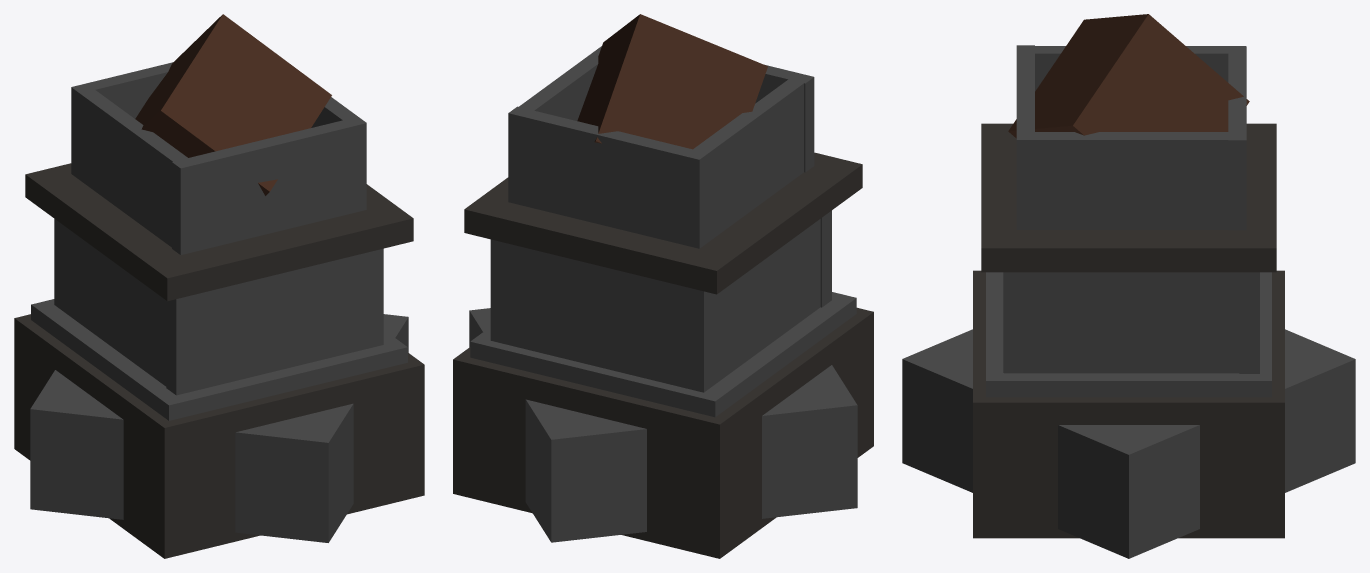
The model's file is 碉堡塔_2级.fbx.
The picture shows the model from 3 angles, left to right: view 1: azimuth 30°, elevation 25°; view 2: azimuth 150°, elevation 25°; view 3: azimuth 270°, elevation 25°; orthographic projection. The views are drawn at different scales.
Parts seen in each view (by area): view 1: 立方体, 立方体.027, 立方体.011, 立方体.005, 立方体.001, 立方体.002, 立方体.017, 立方体.004, 立方体.009, 立方体.025, 立方体.016; view 2: 立方体, 立方体.027, 立方体.008, 立方体.005, 立方体.025, 立方体.002, 立方体.017, 立方体.009, 立方体.004, 立方体.016, 立方体.001, 立方体.011; view 3: 立方体.027, 立方体, 立方体.010, 立方体.016, 立方体.005, 立方体.002, 立方体.004, 立方体.025, 立方体.008, 立方体.001, 立方体.017.
Boxes of the visible parts, bbox=[...] form: 立方体: bbox=[14, 314, 424, 558]; 立方体.027: bbox=[30, 314, 408, 542]; 立方体.011: bbox=[166, 248, 383, 395]; 立方体.005: bbox=[25, 163, 413, 301]; 立方体.001: bbox=[172, 116, 366, 254]; 立方体.002: bbox=[135, 14, 331, 195]; 立方体.017: bbox=[71, 83, 193, 247]; 立方体.004: bbox=[31, 299, 407, 420]; 立方体.009: bbox=[54, 219, 166, 386]; 立方体.025: bbox=[71, 62, 173, 118]; 立方体.016: bbox=[311, 97, 366, 127]; 立方体: bbox=[453, 307, 873, 558]; 立方体.027: bbox=[469, 308, 857, 542]; 立方体.008: bbox=[490, 239, 703, 392]; 立方体.005: bbox=[464, 152, 862, 294]; 立方体.025: bbox=[508, 106, 707, 248]; 立方体.002: bbox=[577, 14, 767, 149]; 立方体.017: bbox=[684, 75, 809, 248]; 立方体.009: bbox=[703, 219, 820, 392]; 立方体.004: bbox=[470, 292, 856, 417]; 立方体.016: bbox=[513, 46, 601, 120]; 立方体.001: bbox=[755, 64, 814, 172]; 立方体.011: bbox=[820, 210, 831, 307]; 立方体.027: bbox=[902, 329, 1355, 558]; 立方体: bbox=[973, 270, 1284, 538]; 立方体.010: bbox=[1004, 272, 1239, 373]; 立方体.016: bbox=[1017, 132, 1239, 229]; 立方体.005: bbox=[981, 123, 1276, 272]; 立方体.002: bbox=[1008, 14, 1249, 138]; 立方体.004: bbox=[986, 272, 1271, 397]; 立方体.025: bbox=[1228, 46, 1246, 230]; 立方体.008: bbox=[1239, 272, 1259, 373]; 立方体.001: bbox=[1016, 45, 1034, 229]; 立方体.017: bbox=[1023, 46, 1245, 91].
Bounding box in the file's own units: 322 × 322 × 364.
